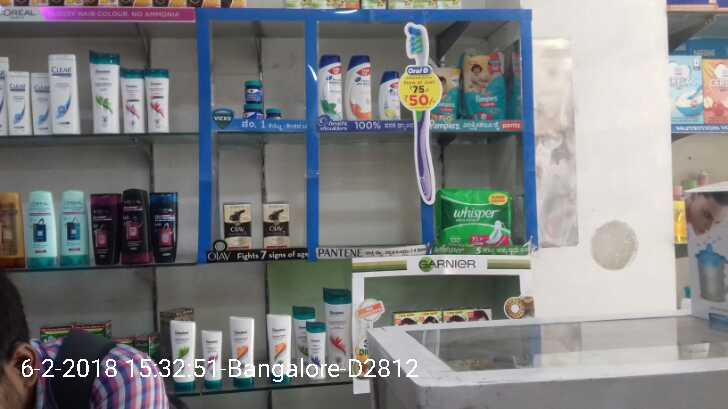beauty: (346, 53, 373, 122), (220, 198, 254, 251), (259, 198, 292, 251), (319, 52, 345, 118), (377, 72, 403, 122)
pharmacy: (435, 189, 514, 242), (462, 44, 507, 122), (242, 77, 262, 102)
